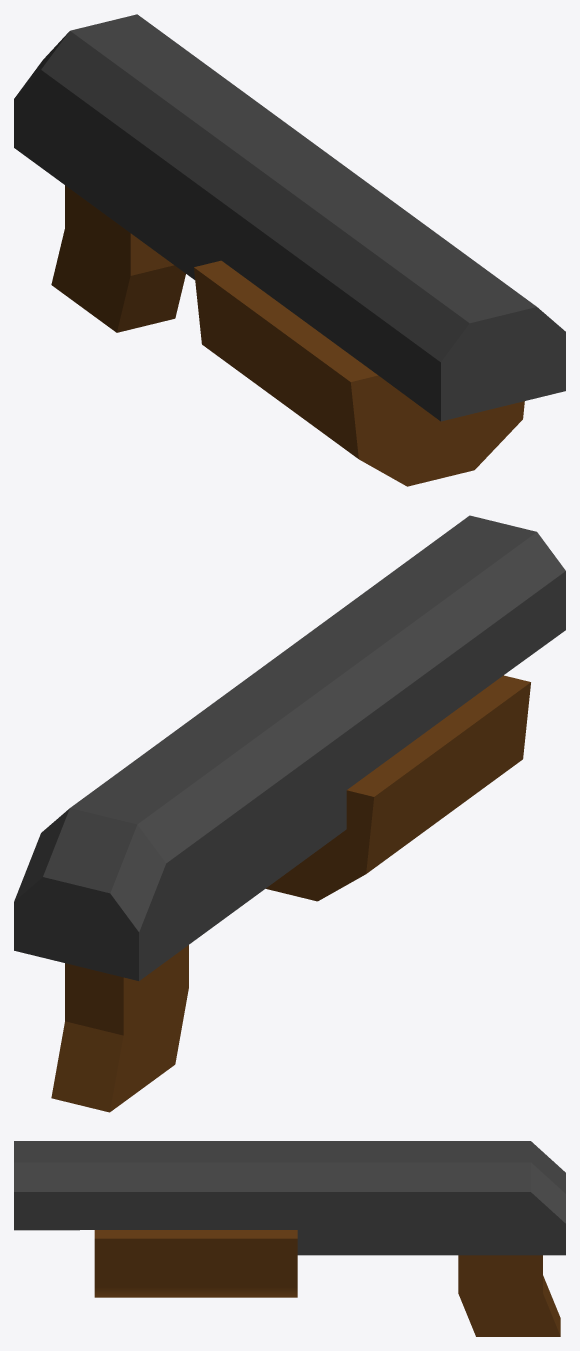
The model's file is shotgun.FBX.
3 views of the same model, one above another, from view 1: azimuth 30°, elevation 25°; view 2: azimuth 150°, elevation 25°; view 3: azimuth 270°, elevation 25° (orthographic). The views are drawn at different scales.
Parts seen in each view (by area): view 1: Box001; view 2: Box001; view 3: Box001.
Boxes of the visible parts, <box> form: Box001: <box>14,14,565,486</box>; Box001: <box>14,515,565,1112</box>; Box001: <box>14,1141,565,1336</box>.
Bounding box in the file's own units: 138 × 567 × 200.
